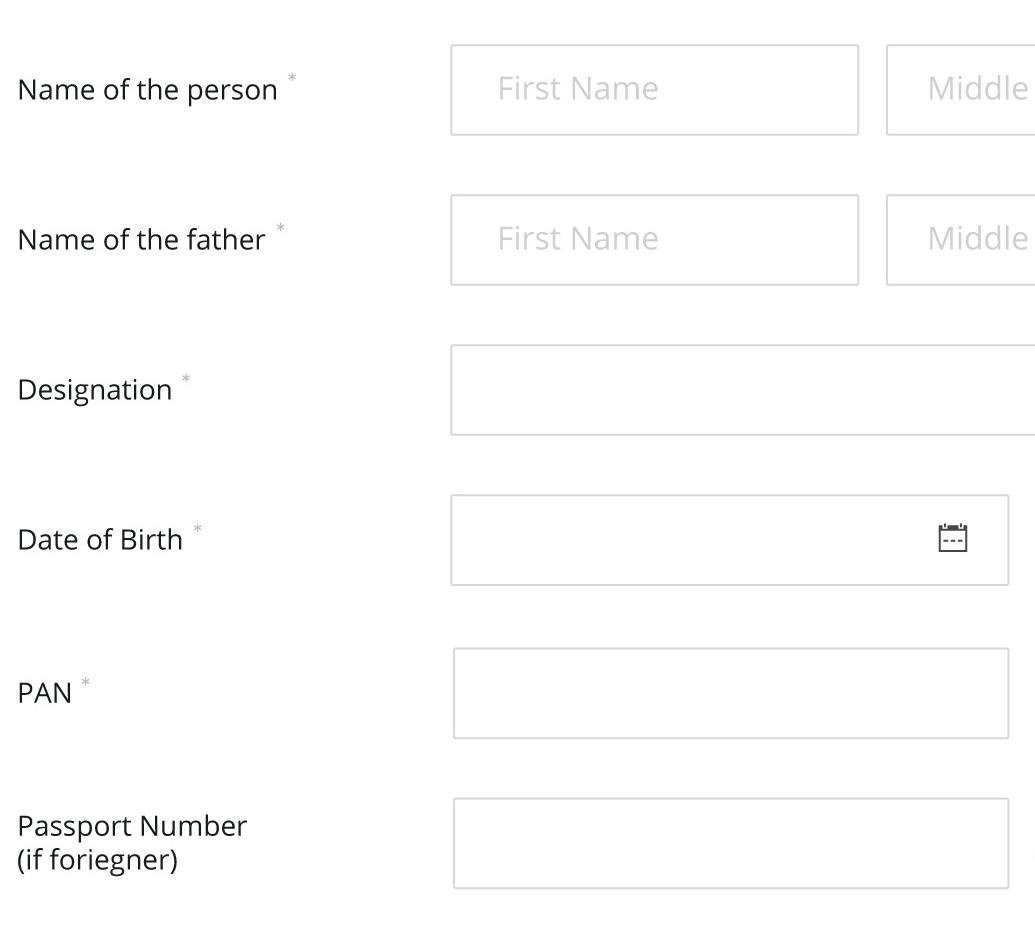field: (446, 795, 1012, 896), (449, 643, 1005, 742), (440, 492, 1017, 587), (449, 43, 863, 142), (449, 195, 858, 290)
